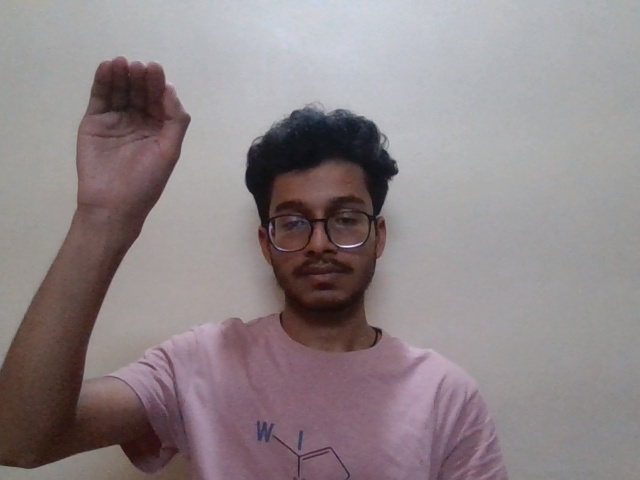sound: (73, 45, 200, 244)
